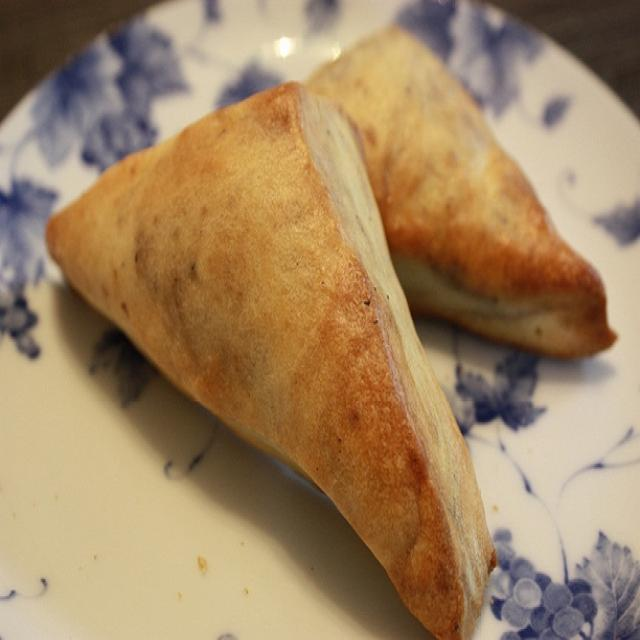面包点心: (31, 15, 610, 622)
